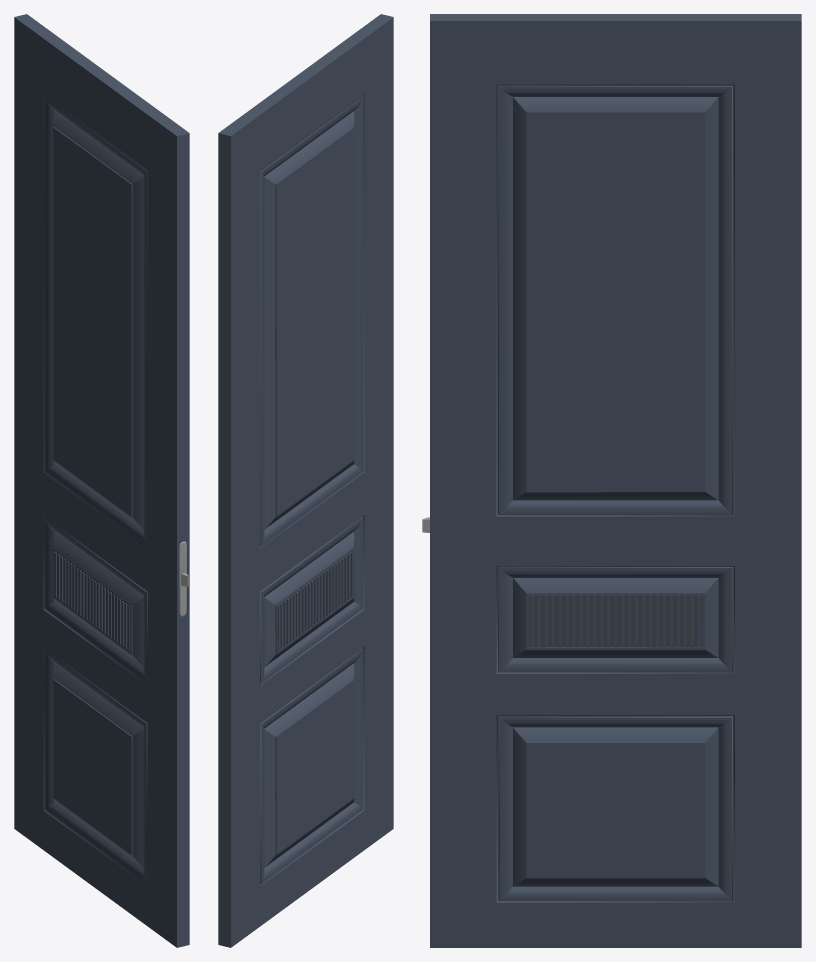
The model's file is 68_TURIN_Door.glb.
3 views of the same model, side by side, from view 1: azimuth 30°, elevation 25°; view 2: azimuth 150°, elevation 25°; view 3: azimuth 270°, elevation 25° (orthographic). The views are drawn at different scales.
Parts seen in each view (by area): view 1: 68_TURIN_Door; view 2: 68_TURIN_Door; view 3: 68_TURIN_Door.
Boxes of the visible parts, x1=… form: 68_TURIN_Door: x1=14, y1=14, x2=189, y2=947; 68_TURIN_Door: x1=218, y1=14, x2=393, y2=947; 68_TURIN_Door: x1=422, y1=14, x2=801, y2=947.
Bounding box in the file's own units: 0.0572 × 2.2 × 0.8163.
